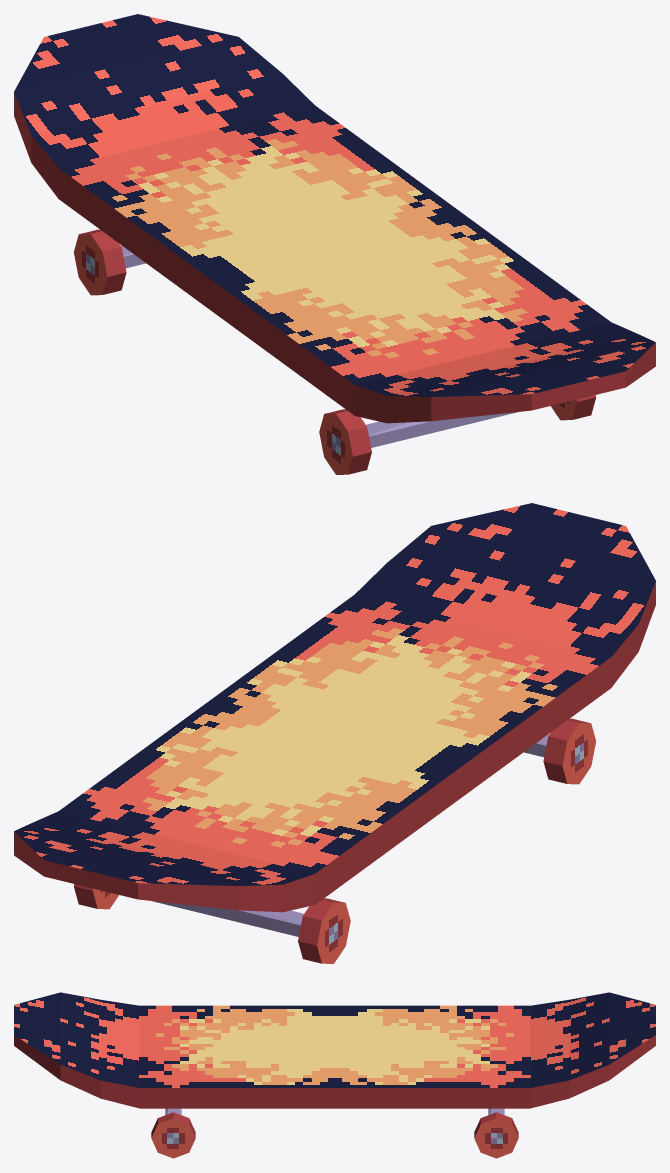
The model's file is skate_flames.glb.
3 renders of one model, top to bottom at view 1: azimuth 30°, elevation 25°; view 2: azimuth 150°, elevation 25°; view 3: azimuth 270°, elevation 25°, orthographic. The views are drawn at different scales.
Parts seen in each view (by area): view 1: Board, Wheels, Rims; view 2: Board, Wheels, Rims; view 3: Board, Wheels.
Boxes of the visible parts, x1,y1,x2,y2 form: Board: [14, 14, 655, 423]; Wheels: [73, 229, 596, 474]; Rims: [120, 245, 517, 447]; Board: [14, 503, 655, 912]; Wheels: [73, 718, 596, 963]; Rims: [152, 734, 549, 936]; Board: [14, 992, 655, 1108]; Wheels: [151, 1112, 518, 1158].
Bounding box in the file's own units: 1 × 0.5638 × 3.29.
Materials: 1 (1 with a texture image).
